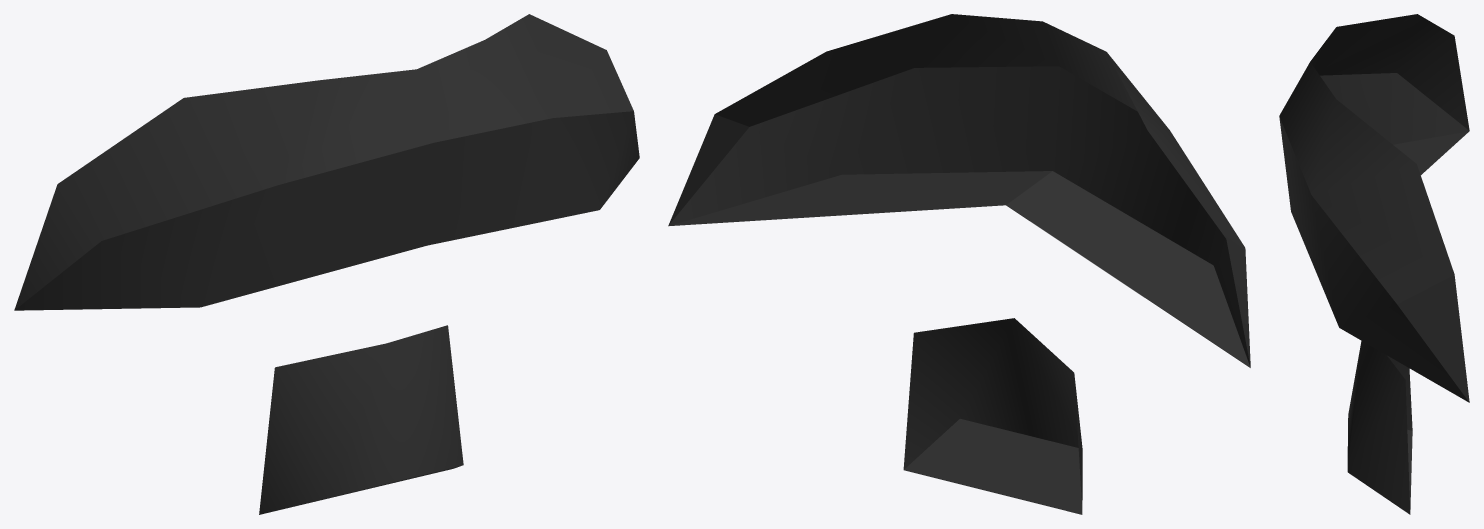
Rendered from Male_Mustache_02.fbx.
3 views of the same model, side by side, from view 1: azimuth 30°, elevation 25°; view 2: azimuth 150°, elevation 25°; view 3: azimuth 270°, elevation 25° (orthographic). The views are drawn at different scales.
Visible parts, largest first — view 1: Male_Mustache_02; view 2: Male_Mustache_02; view 3: Male_Mustache_02.
Part boxes in pixels (x1,y1,x2,y2): Male_Mustache_02: (14,14,639,514); Male_Mustache_02: (668,14,1250,514); Male_Mustache_02: (1279,14,1469,514).
Size of the model in its own units: 22.73 by 16.09 by 6.73.
